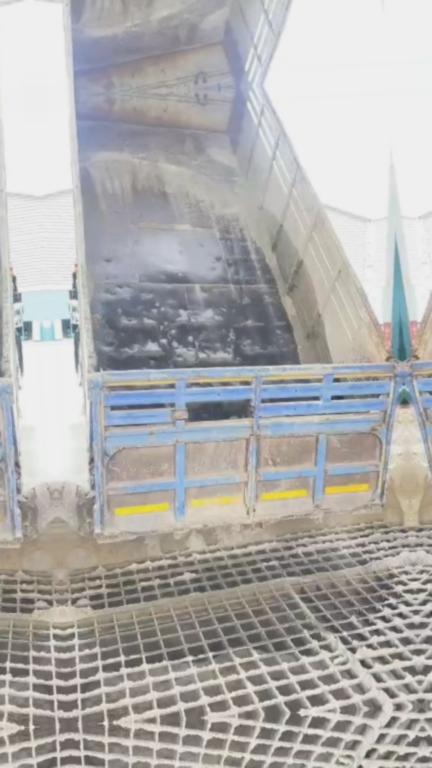sand: (84, 152, 317, 361), (63, 550, 413, 627), (294, 478, 409, 532), (326, 633, 393, 708), (59, 531, 96, 571), (209, 149, 235, 165)
